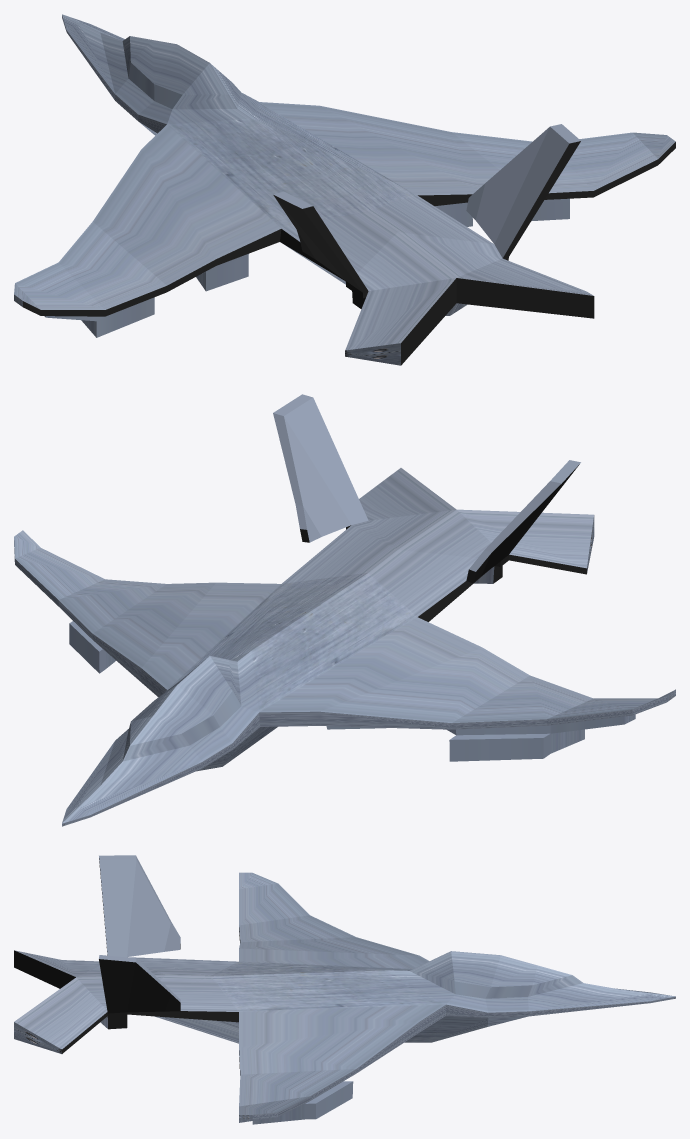
Rendered from Aircraft.obj.
3 renders of one model, top to bottom at view 1: azimuth 30°, elevation 25°; view 2: azimuth 150°, elevation 25°; view 3: azimuth 270°, elevation 25°, orthographic. The views are drawn at different scales.
Parts seen in each view (by area): view 1: AIRCRAFT; view 2: AIRCRAFT; view 3: AIRCRAFT.
Part boxes in pixels (left/top/right/bottom): AIRCRAFT: left=14, top=14, right=675, bottom=365; AIRCRAFT: left=14, top=394, right=675, bottom=826; AIRCRAFT: left=14, top=855, right=675, bottom=1124.
Size of the model in its own units: 11.72 by 3.08 by 13.55.
